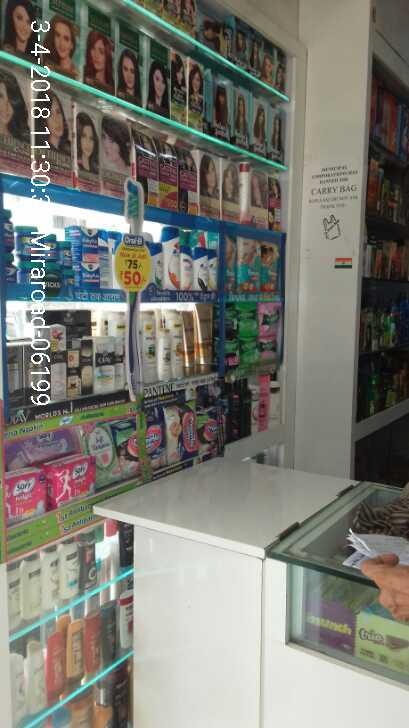vicks: (1, 206, 71, 287), (71, 226, 103, 289)
